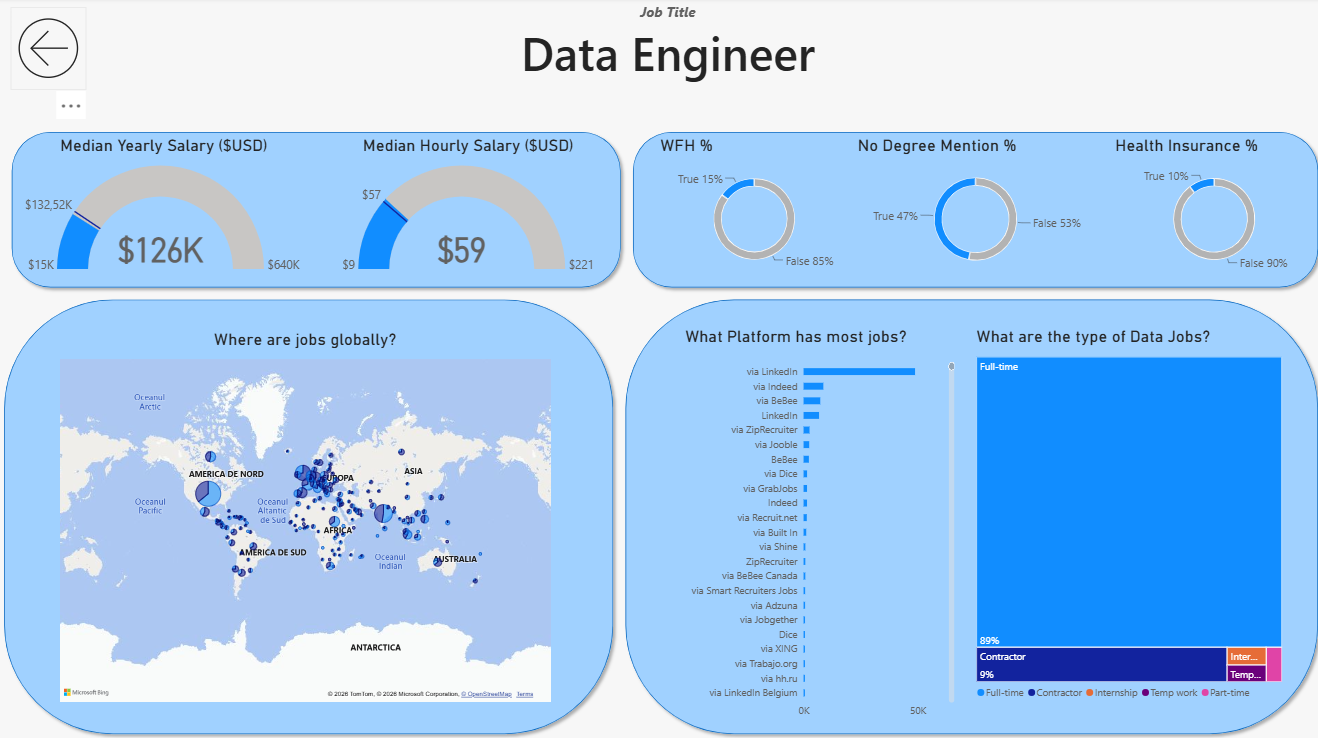

The dashboard page shown, as its layout file describes it:
{"tool":"powerbi","page":{"name":"Job Title Drill Through","canvas":[1920,1080],"ordinal":1},"visuals":[{"type":"group","id":"g1","title":"Background","box":[0,186.4,1920.1,890.4],"z":0},{"type":"shape","box":[10.4,186.4,899.5,243],"z":0,"group":"g1"},{"type":"cardVisual","fields":{"Data":["Min(job_postings_flat.job_title_short)1"]},"box":[492.2,0,955.5,133.9],"z":1000},{"type":"shape","box":[909.9,186.4,1010.1,243],"z":1000,"group":"g1"},{"type":"actionButton","box":[18.1,14.5,110.4,119.4],"z":2000},{"type":"shape","box":[0,429.4,899.5,647.3],"z":2000,"group":"g1"},{"type":"gauge","title":"Median Yearly Salary ($USD)","fields":{"MaxValue":["Max(job_postings_flat.salary_year_avg)2"],"MinValue":["Min(job_postings_flat.salary_year_avg)1"],"TargetValue":["Avg(job_postings_flat.salary_year_avg)3"],"Y":["Median(job_postings_flat.salary_year_avg)"]},"box":[18.1,186.4,443.4,228],"z":3000},{"type":"shape","box":[899.5,429.4,1020.5,647.3],"z":3000,"group":"g1"},{"type":"gauge","title":"Median Hourly Salary ($USD)","fields":{"MaxValue":["Max(job_postings_flat.salary_hour_avg)"],"MinValue":["Min(job_postings_flat.salary_hour_avg)"],"TargetValue":["Avg(job_postings_flat.salary_hour_avg)1"],"Y":["Median(job_postings_flat.salary_hour_avg)"]},"box":[461.5,186.4,437.9,228],"z":4000},{"type":"donutChart","title":"WFH %","fields":{"Category":["job_postings_flat.job_work_from_home"],"Y":["CountNonNull(job_postings_flat.job_work_from_home)"]},"box":[942.8,186.4,304,228],"z":5000},{"type":"donutChart","title":"No Degree Mention %","fields":{"Category":["job_postings_flat.job_no_degree_mention"],"Y":["CountNonNull(job_postings_flat.job_no_degree_mention)"]},"box":[1228.8,186.4,372.8,228],"z":6000},{"type":"donutChart","title":"Health Insurance %","fields":{"Category":["job_postings_flat.job_health_insurance"],"Y":["CountNonNull(job_postings_flat.job_health_insurance)"]},"box":[1601.5,186.4,318.5,228],"z":7000},{"type":"map","title":"Where are jobs globally?","fields":{"Category":["job_postings_flat.job_country"],"Series":["job_postings_flat.job_no_degree_mention"],"Size":["CountNonNull(job_postings_flat.job_title_short)"]},"box":[74.2,466.9,742,570],"z":8000},{"type":"treemap","title":"What are the type of Data Jobs?","fields":{"Group":["job_postings_flat.job_schedule_type"],"Values":["CountNonNull(job_postings_flat.job_schedule_type)"]},"box":[1400.7,463.3,506.7,600.8],"z":9000},{"type":"barChart","title":"What Platform has most jobs?","fields":{"Category":["job_postings_flat.job_via"],"Y":["CountNonNull(job_postings_flat.job_via)"]},"box":[910.3,463.3,490.4,600.8],"z":10000}]}

Visuals, with their boxes in screenshot pixels (x1, y1, x2, y2), scaled from the page's 1920x1080 canvas onto the 1318x738 screenshot:
"Background" group: 0, 127, 1317, 736
shape: 7, 127, 625, 293
cardVisual - Min(job_postings_flat.job_title_short)1: 338, 0, 994, 91
shape: 625, 127, 1317, 293
actionButton: 12, 10, 88, 91
shape: 0, 293, 617, 736
"Median Yearly Salary ($USD)" gauge: 12, 127, 317, 283
shape: 617, 293, 1317, 736
"Median Hourly Salary ($USD)" gauge: 317, 127, 617, 283
"WFH %" donutChart: 647, 127, 856, 283
"No Degree Mention %" donutChart: 844, 127, 1099, 283
"Health Insurance %" donutChart: 1099, 127, 1317, 283
"Where are jobs globally?" map: 51, 319, 560, 709
"What are the type of Data Jobs?" treemap: 962, 317, 1309, 727
"What Platform has most jobs?" barChart: 625, 317, 962, 727
